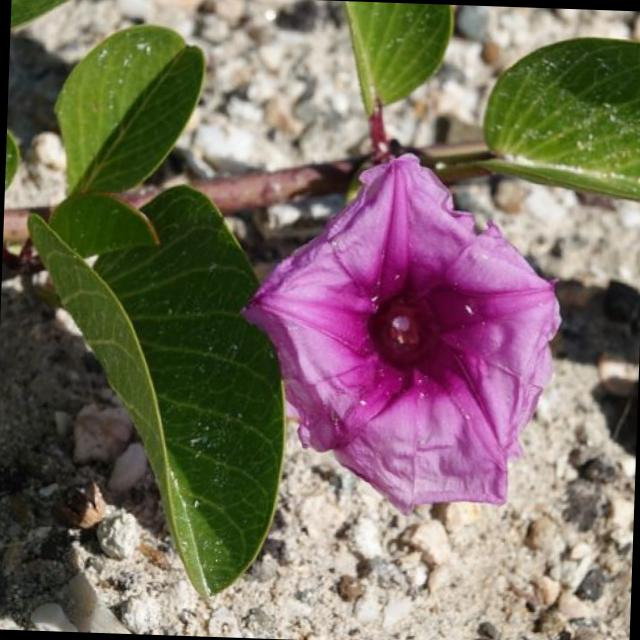ipomoea: (230, 144, 570, 522)
